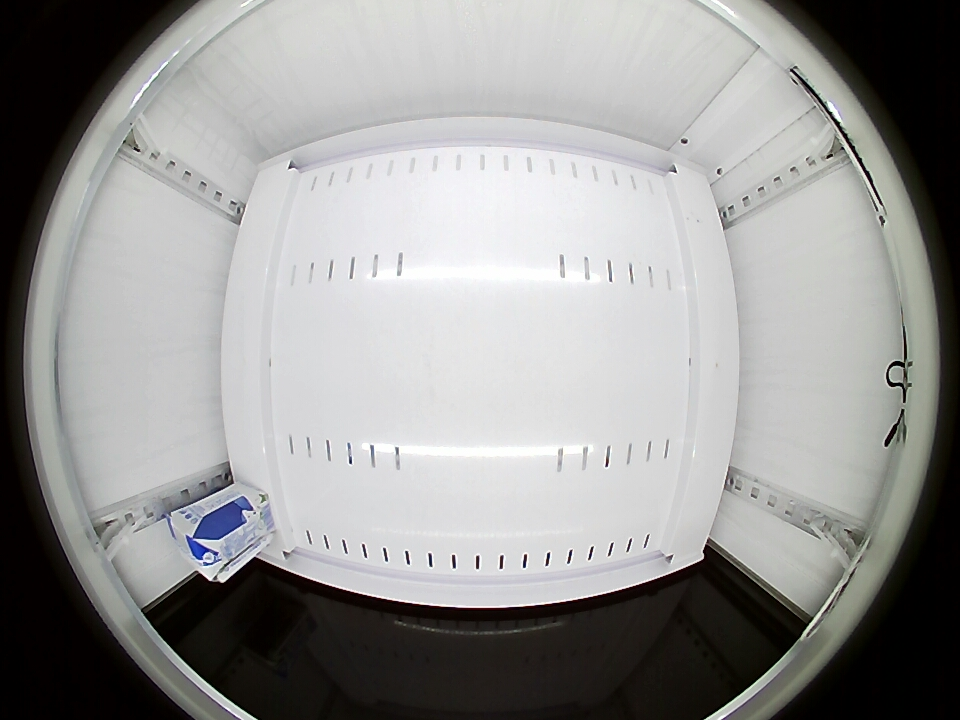anmuxi: (167, 507, 235, 582)
